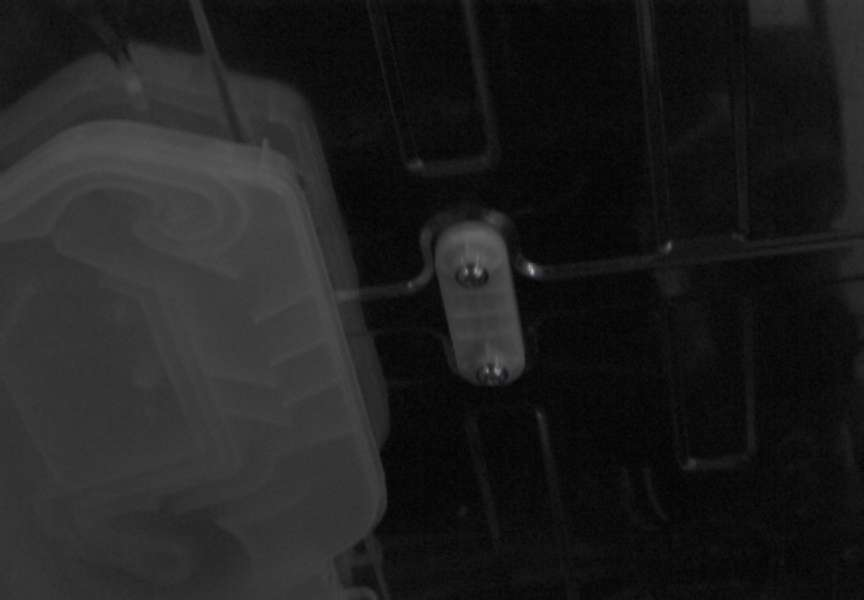screw: (455, 262, 489, 288), (476, 363, 509, 387)
